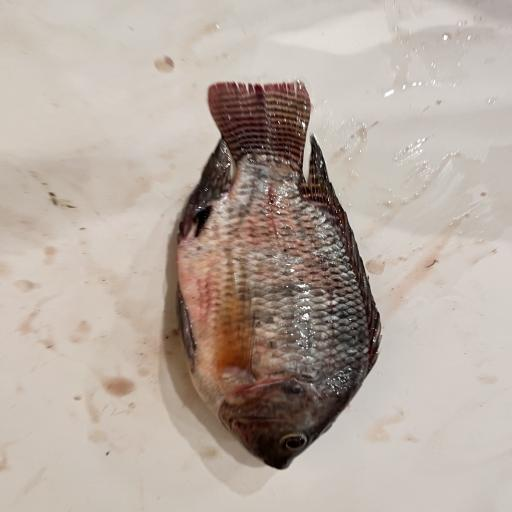Tilapia: (177, 81, 382, 470)
